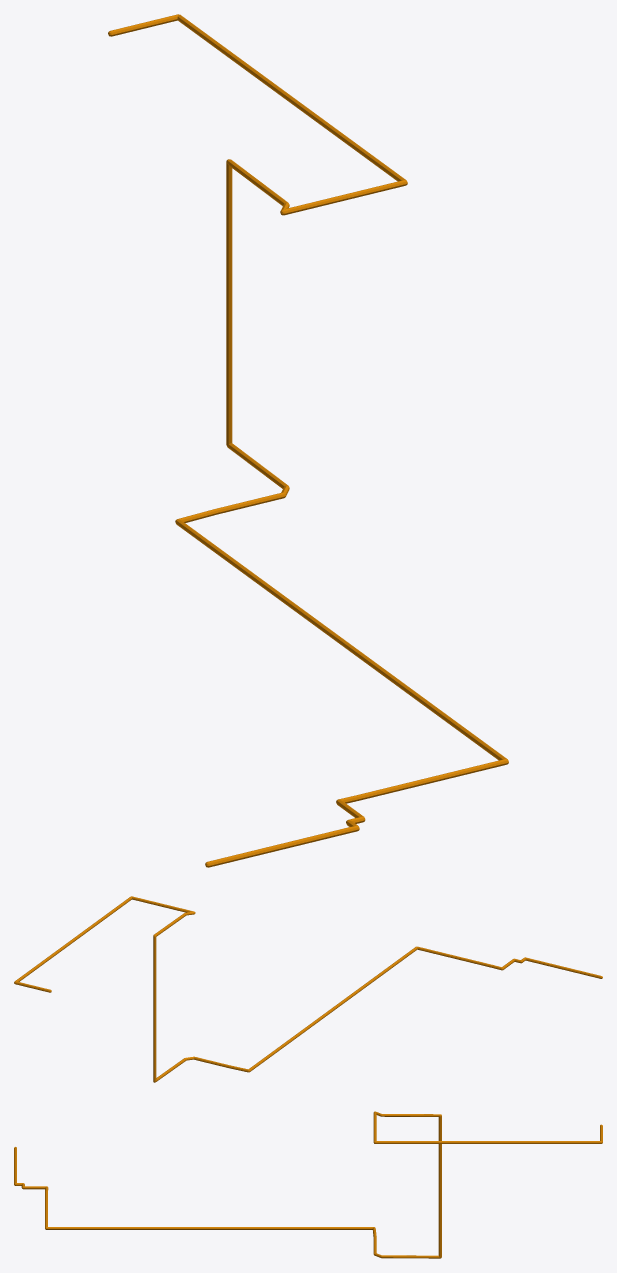
The picture shows the model from 3 angles, top to bottom: view 1: azimuth 30°, elevation 25°; view 2: azimuth 150°, elevation 25°; view 3: azimuth 270°, elevation 25°; orthographic projection. The views are drawn at different scales.
Bounding box in the file's own units: 2078 × 1020 × 3774.
